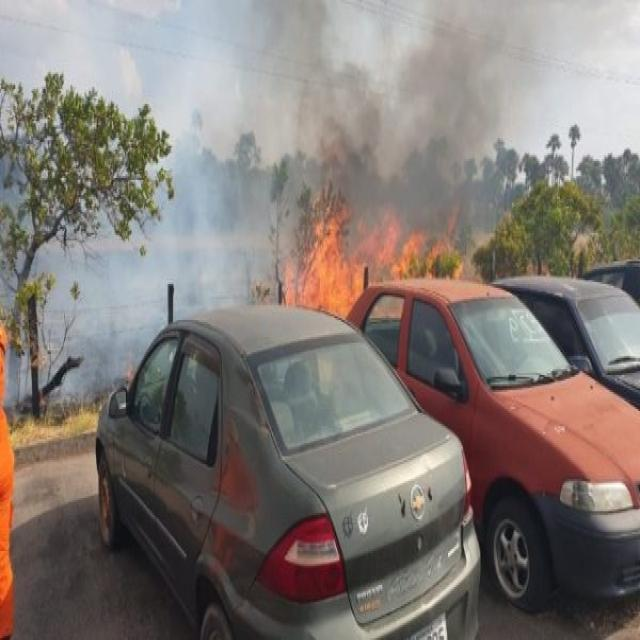Fire: (276, 195, 364, 318), (364, 198, 466, 278)
Smoke: (255, 10, 525, 204), (34, 212, 228, 304), (174, 8, 253, 208), (228, 209, 276, 304)
